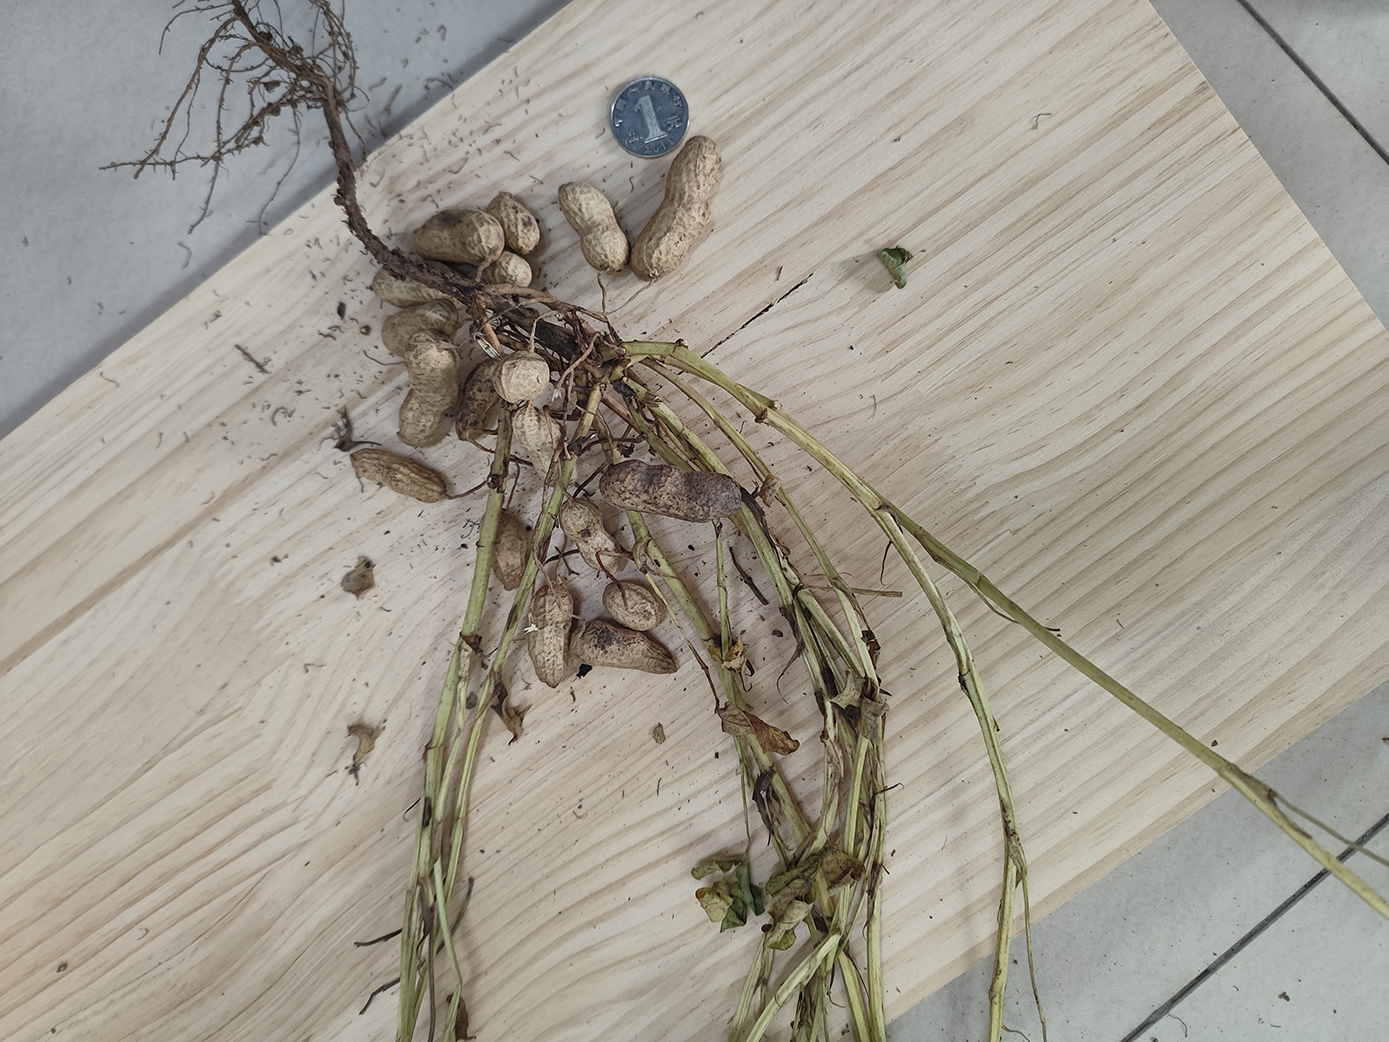h: (630, 137, 720, 282), (400, 329, 461, 448), (559, 181, 627, 275), (571, 620, 678, 675), (513, 405, 578, 491), (350, 449, 447, 503), (415, 208, 503, 267), (562, 497, 622, 574), (529, 584, 572, 688), (381, 300, 461, 357), (456, 359, 509, 441), (374, 259, 459, 306), (481, 511, 530, 591), (488, 192, 540, 253), (603, 582, 665, 630), (495, 351, 551, 405), (483, 251, 533, 290)
l: (598, 459, 742, 521)
